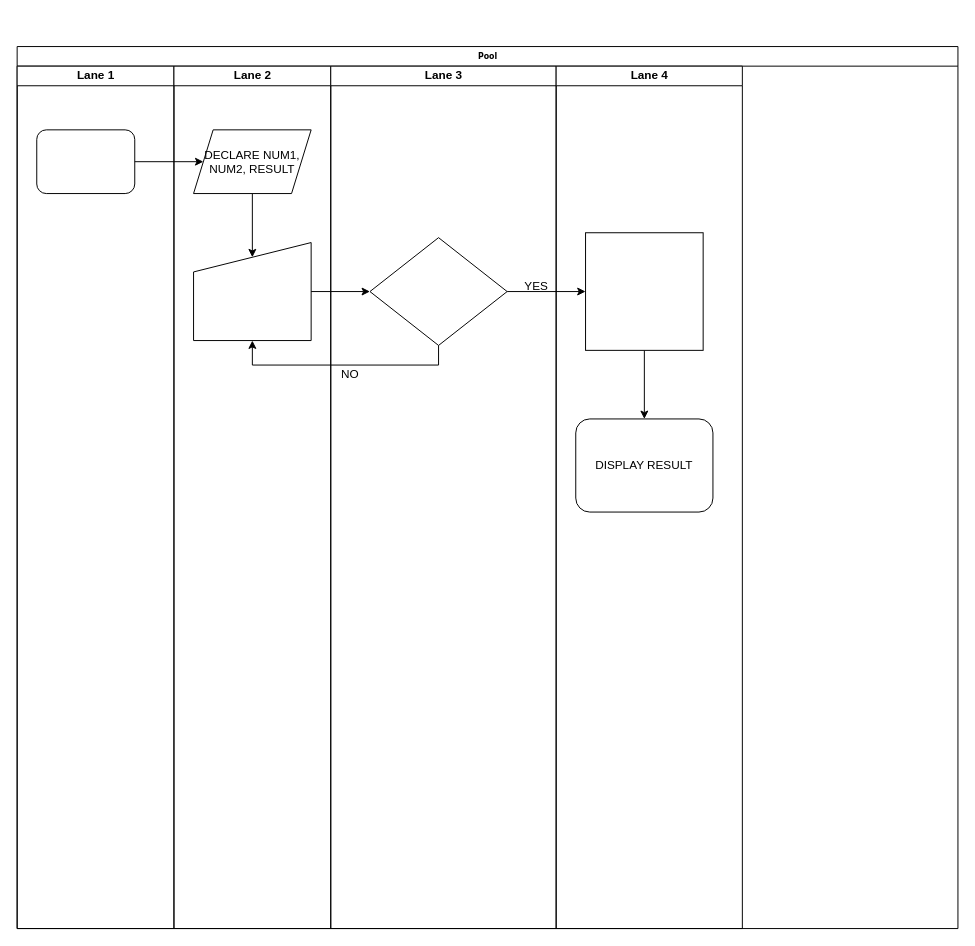
Image size: 975x946. Some labels were removed from this diagram. The shapes that lost their labels are listed below. From the top down, each one's centre as x and y in pixels, then its label:
At pixel 85 161: "START".
At pixel 252 291: "INPUT VALUE NUM1, NUM2".
At pixel 438 291: "IS THE VALUE ACCEPTED".
At pixel 644 291: "CHECK IF VALUES IS NEGATIVE OR POSITIVE".
